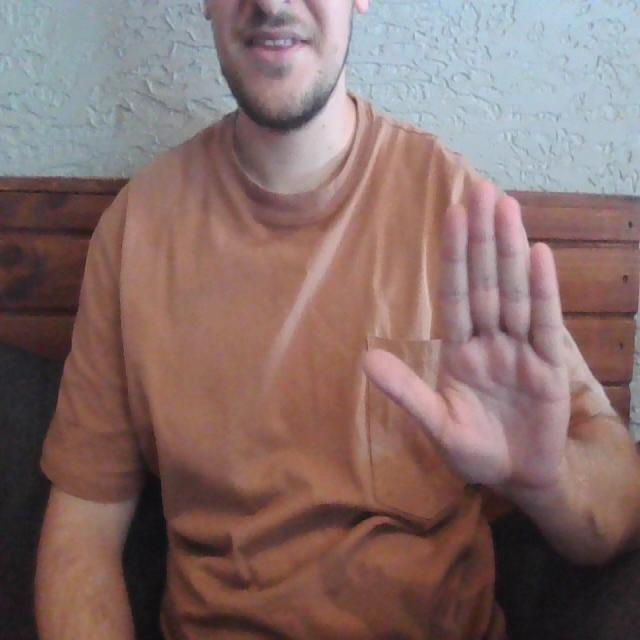Dur: (359, 165, 572, 510)
